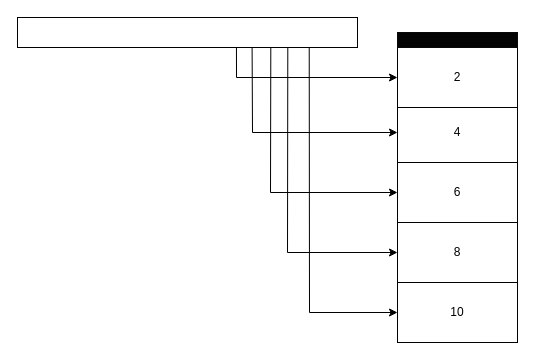
Image size: 535x360. Some labels were removed from this diagram. The shapes that lost their labels are listed below. From the top down, each one's box as (x1, y1, x2, y2) in pixels, then its label:
(16, 16, 358, 48): int[] numberArray = new int[]{ 2, 4, 6, 8, 10 };
(396, 32, 518, 48): Memory
